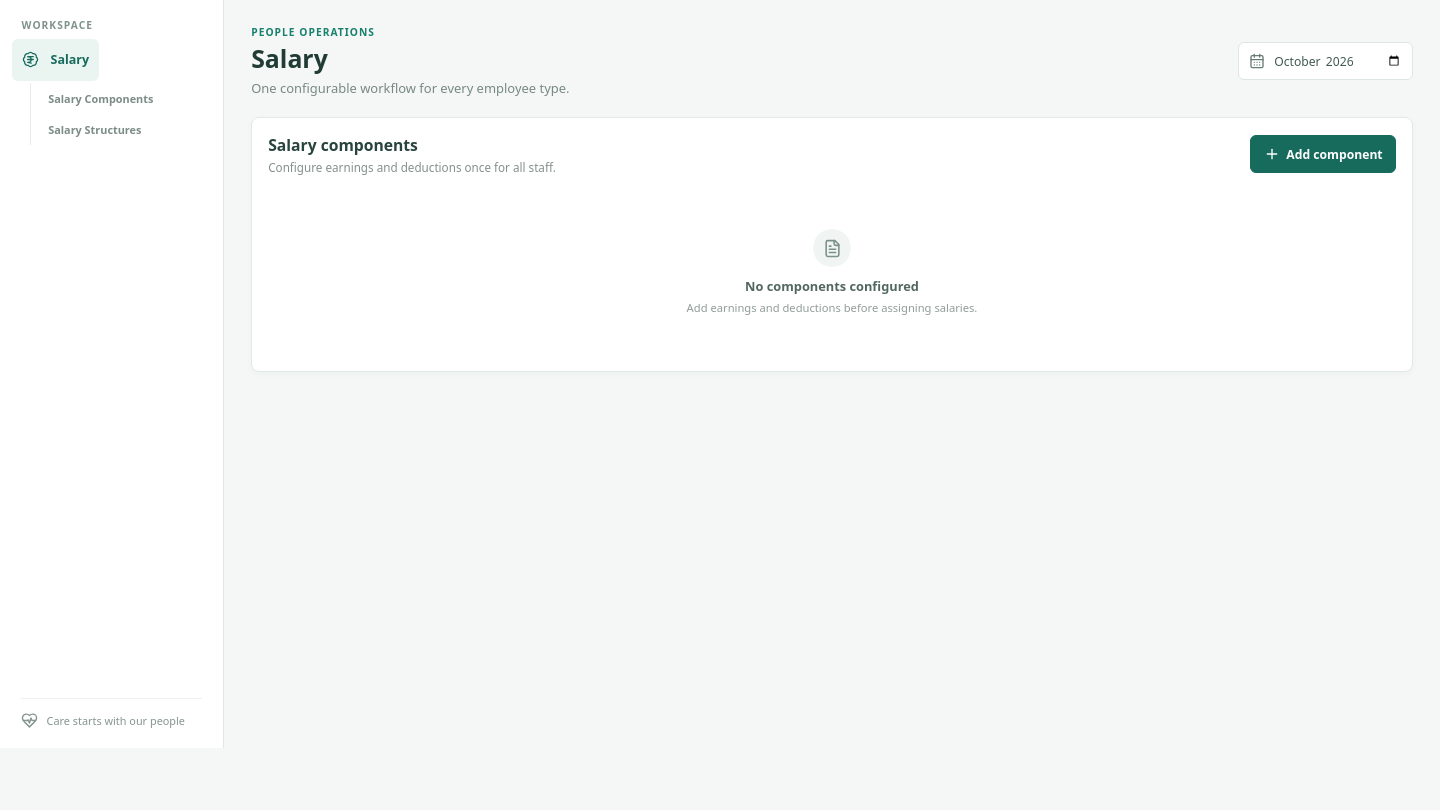
Scenario: PayrollPage › keeps both existing salary component and structure screens available in the salary workspace
The width and height of the screenshot is (1440, 810).
expect the heading "Salary" is shown: met, box [251, 41, 328, 75]
Click the button "Salary Components": coordinates (125, 98) [39, 83, 211, 113]
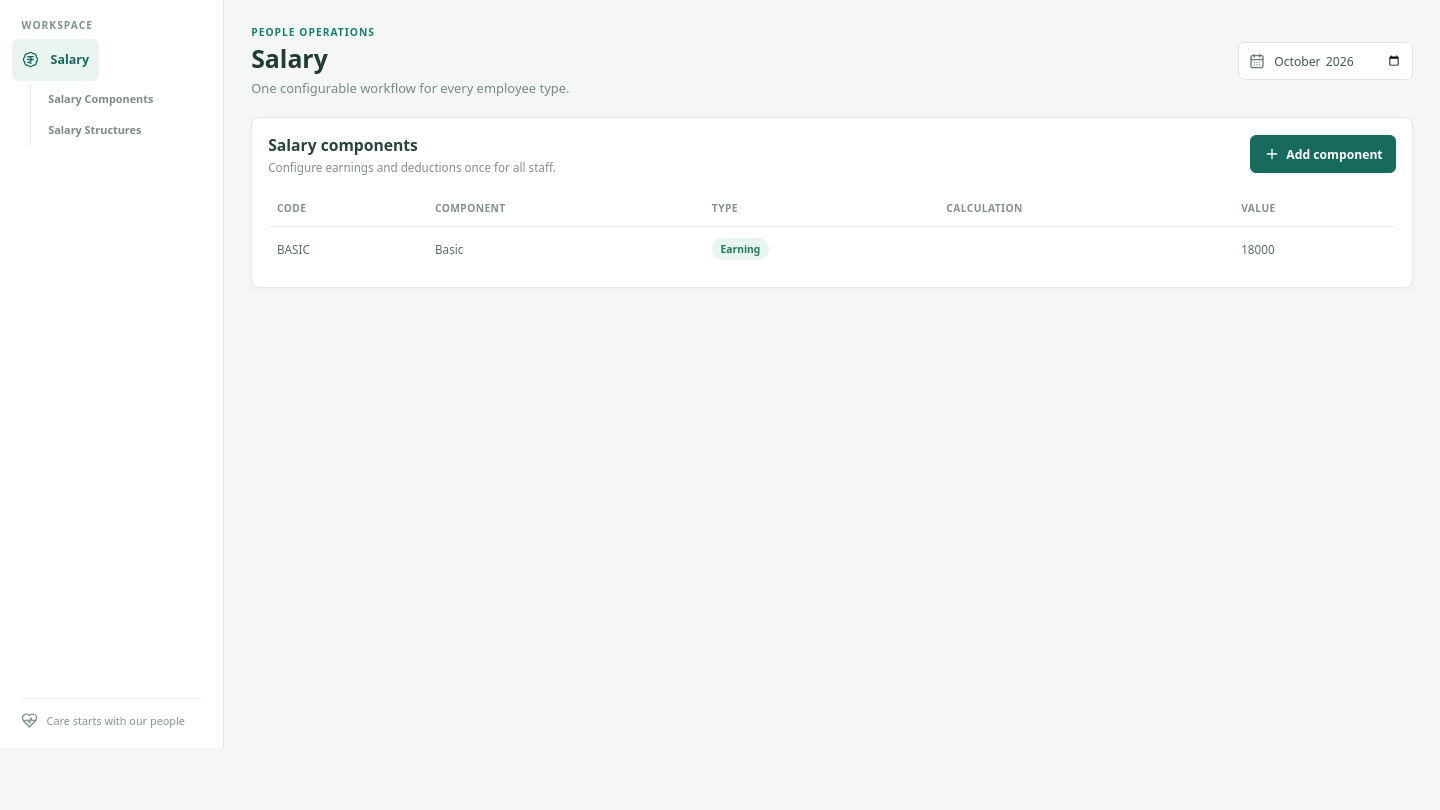
expect the text "Riya Shah" is not shown: met
expect the text "Basic" is shown: met, box [426, 226, 703, 271]
Click the button "Salary Structures": coordinates (125, 130) [39, 115, 211, 145]
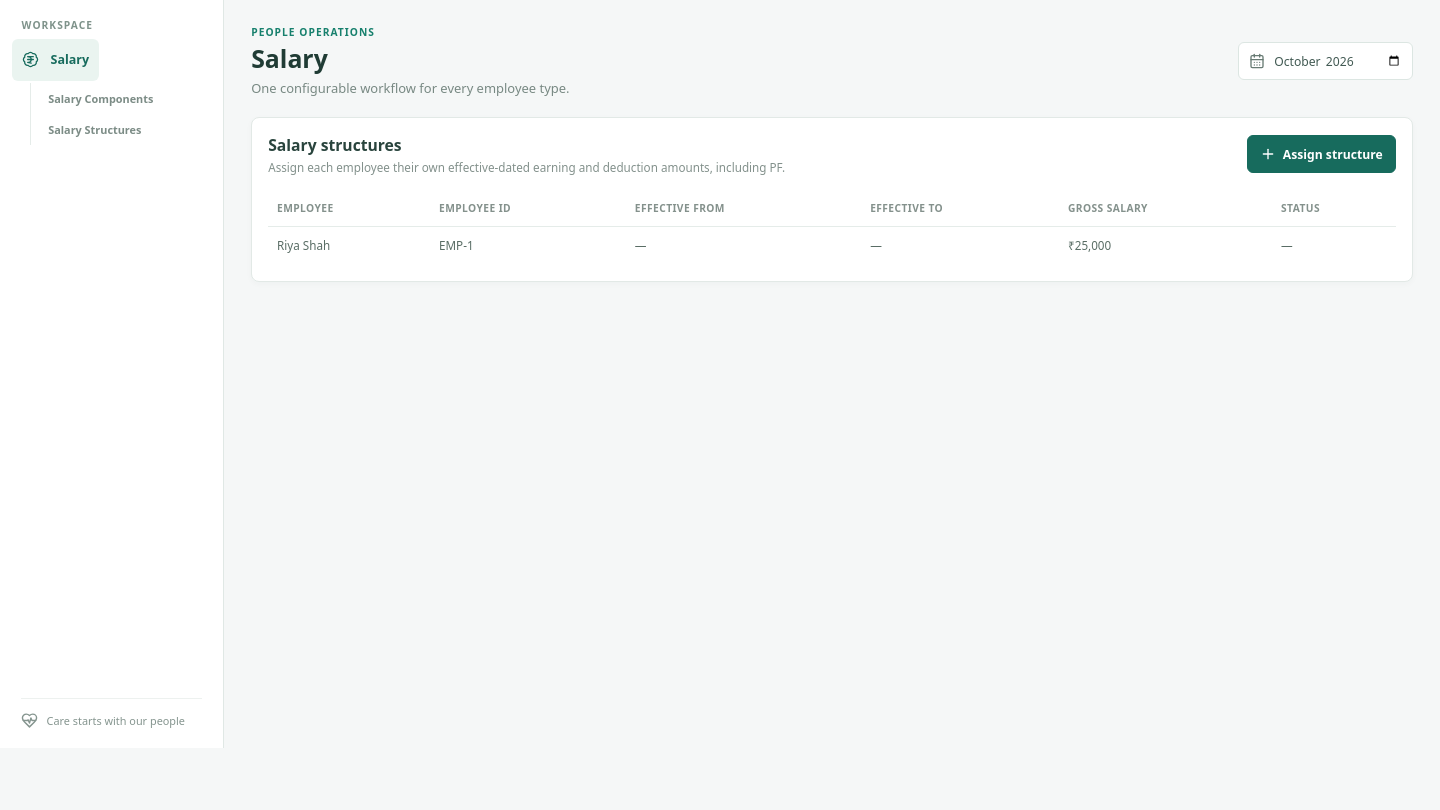
expect the text "Riya Shah" is shown: met, box [268, 226, 430, 265]
expect the text "₹25,000" is shown: met, box [1059, 226, 1272, 265]
expect the text "BASIC" is gone: met
